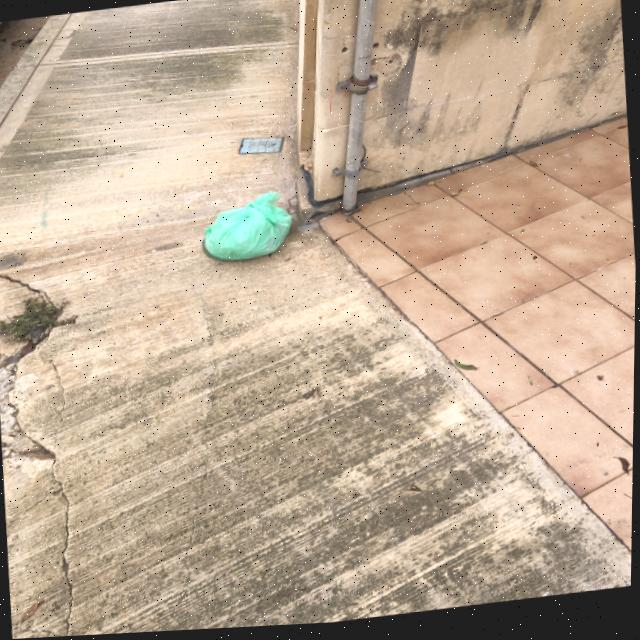Recycled Waste -Grey or Green Bag-: (192, 187, 300, 275)
